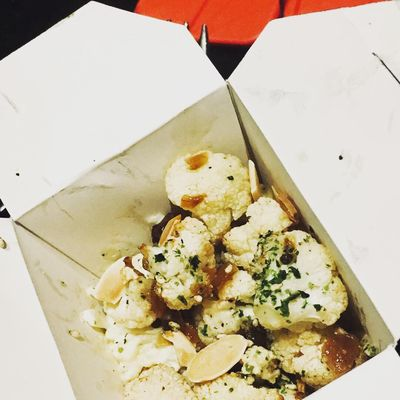sushi: (8, 1, 392, 397)
